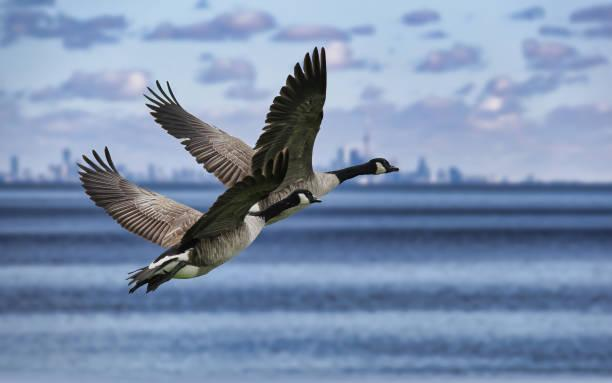Canadian-Goose: (145, 48, 400, 193), (80, 147, 323, 293)
